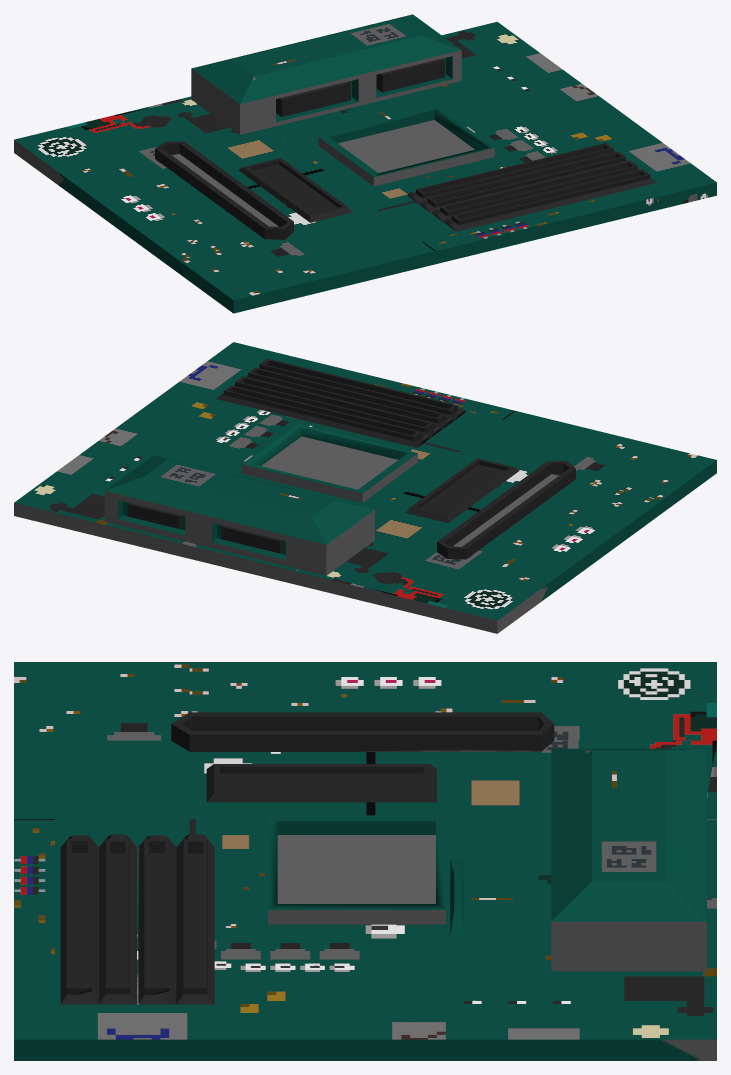
File: PlacaMae_P.fbx
3 views of the same model, one above another, from view 1: azimuth 30°, elevation 25°; view 2: azimuth 150°, elevation 25°; view 3: azimuth 270°, elevation 25° (orthographic). The views are drawn at different scales.
Parts seen in each view (by area): view 1: PlacaMae.P; view 2: PlacaMae.P; view 3: PlacaMae.P.
Boxes of the visible parts, x1,y1,x2,y2 form: PlacaMae.P: (14,14,716,313); PlacaMae.P: (14,342,716,633); PlacaMae.P: (14,662,716,1060).
Bounding box in the file's own units: 1211 × 134 × 952.
